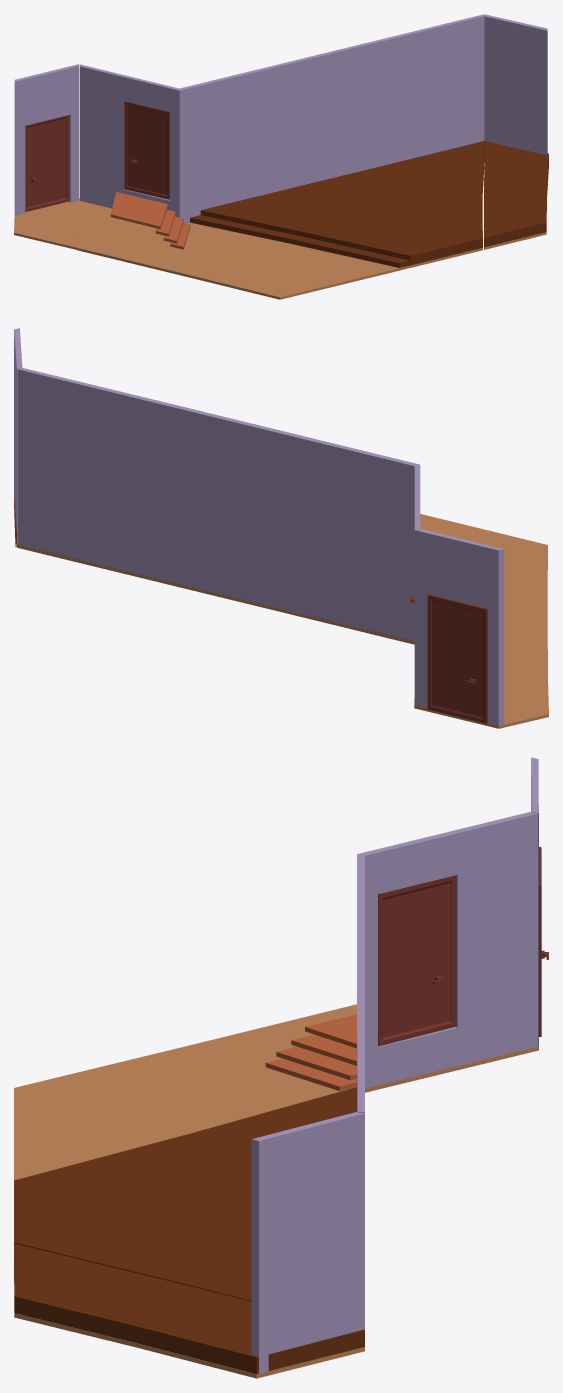
Rendered from MDL_Livingroom_01.fbx.
The picture shows the model from 3 angles, top to bottom: view 1: azimuth 30°, elevation 25°; view 2: azimuth 150°, elevation 25°; view 3: azimuth 270°, elevation 25°; orthographic projection. The views are drawn at different scales.
Parts seen in each view (by area): view 1: MDL_Living_Wall, MDL_Living_Stairs_01, MDL_Living_Floor_01, MDL_Living_Ex_03, MDL_Living_Wall_Ex, MDL_Living_Door_01, MDL_Living_Door_02, MDL_Living_Ex_01, MDL_Living_Stairs_02; view 2: MDL_Living_Wall, MDL_Living_Wall_Ex, MDL_Living_Floor_01, MDL_Living_Door_02, MDL_Living_Ex_01; view 3: MDL_Living_Wall, MDL_Living_Stairs_01, MDL_Living_Floor_01, MDL_Living_Ex_03, MDL_Living_Door_01, MDL_Living_Stairs_02, MDL_Living_Ex_02.
Part boxes in pixels (left/top/right/bottom): MDL_Living_Wall: left=79, top=14, right=547, bottom=223; MDL_Living_Stairs_01: left=190, top=140, right=485, bottom=267; MDL_Living_Floor_01: left=77, top=199, right=482, bottom=299; MDL_Living_Ex_03: left=484, top=141, right=548, bottom=247; MDL_Living_Wall_Ex: left=14, top=64, right=78, bottom=215; MDL_Living_Door_01: left=124, top=101, right=169, bottom=199; MDL_Living_Door_02: left=25, top=115, right=68, bottom=211; MDL_Living_Ex_01: left=14, top=198, right=79, bottom=249; MDL_Living_Stairs_02: left=110, top=192, right=190, bottom=249; MDL_Living_Wall: left=14, top=328, right=420, bottom=641; MDL_Living_Wall_Ex: left=414, top=528, right=504, bottom=725; MDL_Living_Floor_01: left=17, top=514, right=547, bottom=708; MDL_Living_Door_02: left=427, top=594, right=487, bottom=723; MDL_Living_Ex_01: left=414, top=674, right=548, bottom=728; MDL_Living_Wall: left=251, top=812, right=537, bottom=1373; MDL_Living_Stairs_01: left=14, top=1087, right=356, bottom=1301; MDL_Living_Floor_01: left=14, top=1004, right=538, bottom=1180; MDL_Living_Ex_03: left=14, top=1243, right=364, bottom=1373; MDL_Living_Door_01: left=378, top=875, right=455, bottom=1046; MDL_Living_Stairs_02: left=265, top=1014, right=356, bottom=1090; MDL_Living_Ex_02: left=14, top=1279, right=364, bottom=1378.
Bounding box in the file's own units: 1212 × 335 × 686.
